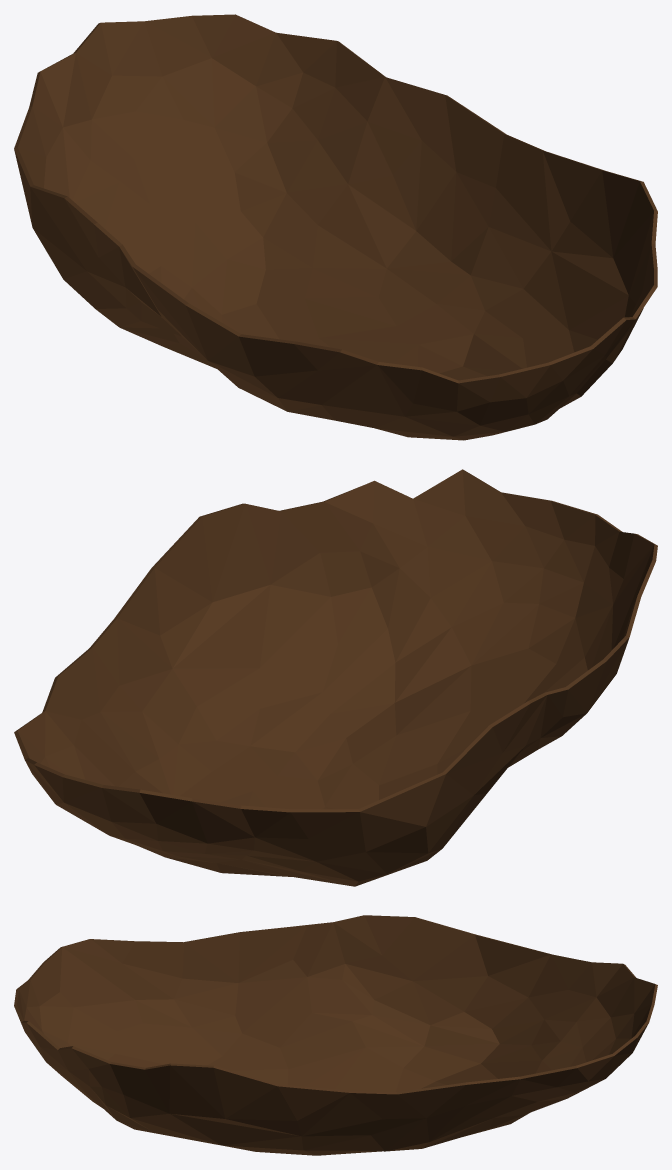
Rendered from Simple_Chitin_Model.fbx.
The picture shows the model from 3 angles, top to bottom: view 1: azimuth 30°, elevation 25°; view 2: azimuth 150°, elevation 25°; view 3: azimuth 270°, elevation 25°; orthographic projection. The views are drawn at different scales.
Parts seen in each view (by area): view 1: Cube.001; view 2: Cube.001; view 3: Cube.001.
Part boxes in pixels (x1,y1,x2,y2): Cube.001: (14,14,657,440); Cube.001: (14,469,657,886); Cube.001: (14,915,657,1155).
Bounding box in the file's own units: 126 × 55.6 × 212.
